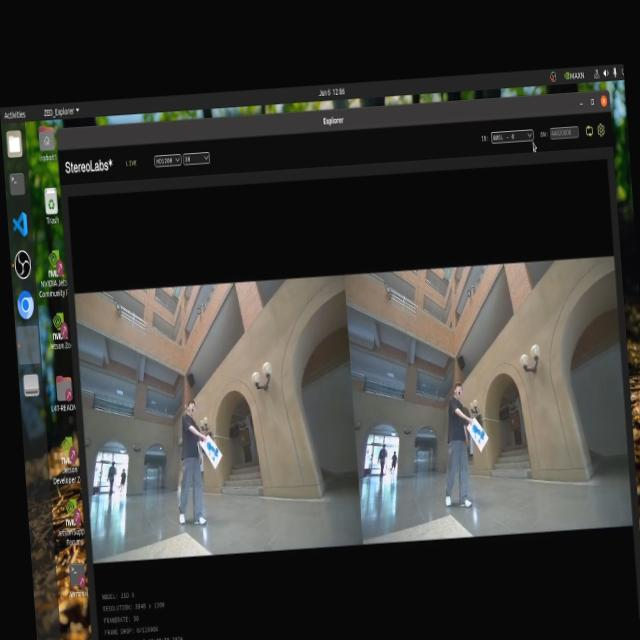blue: (463, 422, 489, 456), (200, 434, 223, 471)
